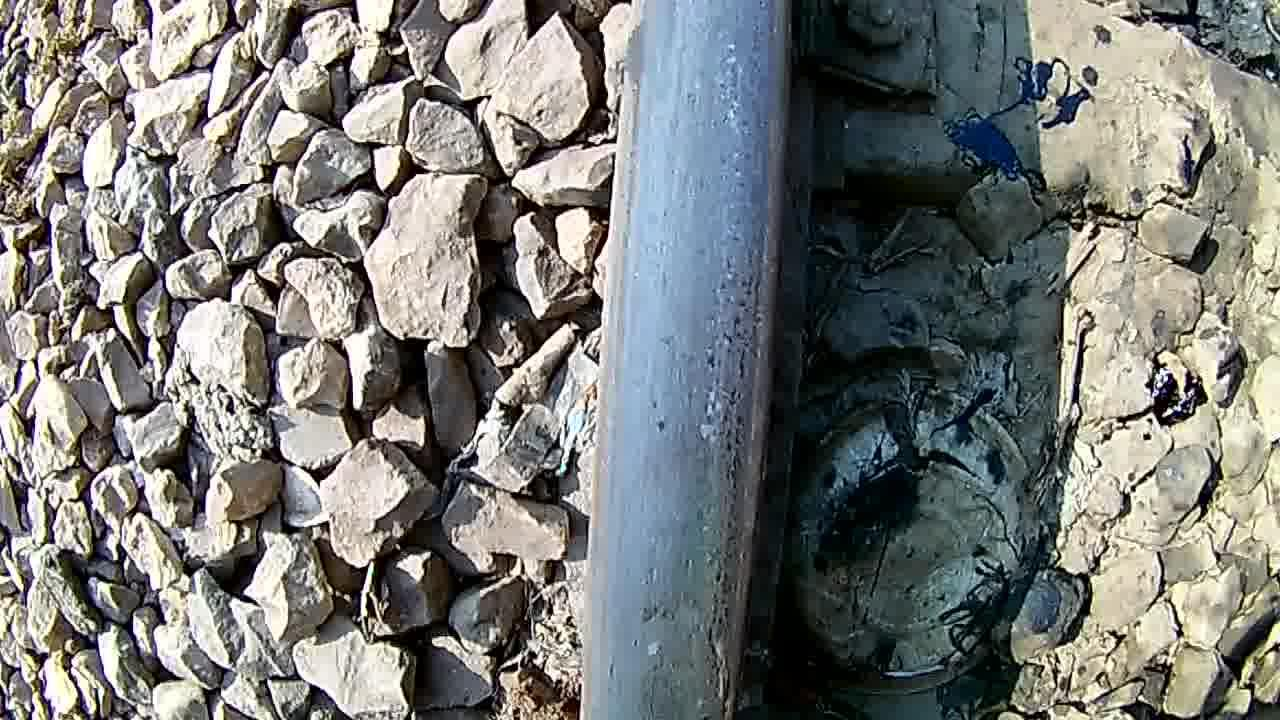bolt_missing: (628, 0, 798, 720)
